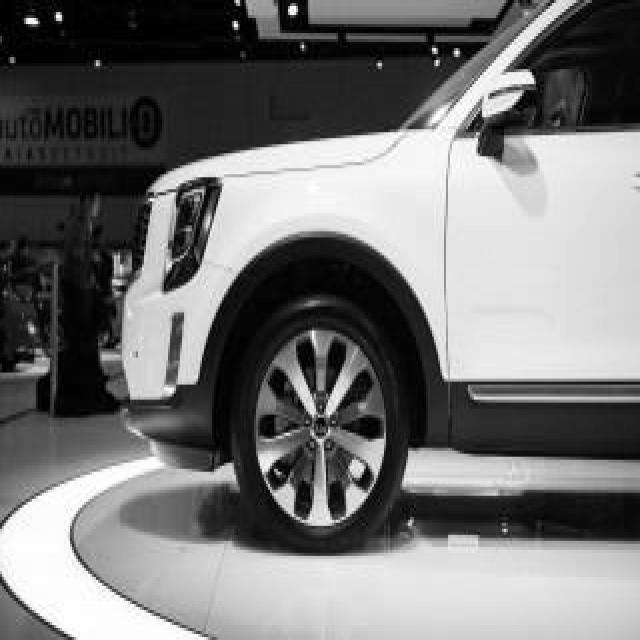Car: (122, 0, 640, 549)
